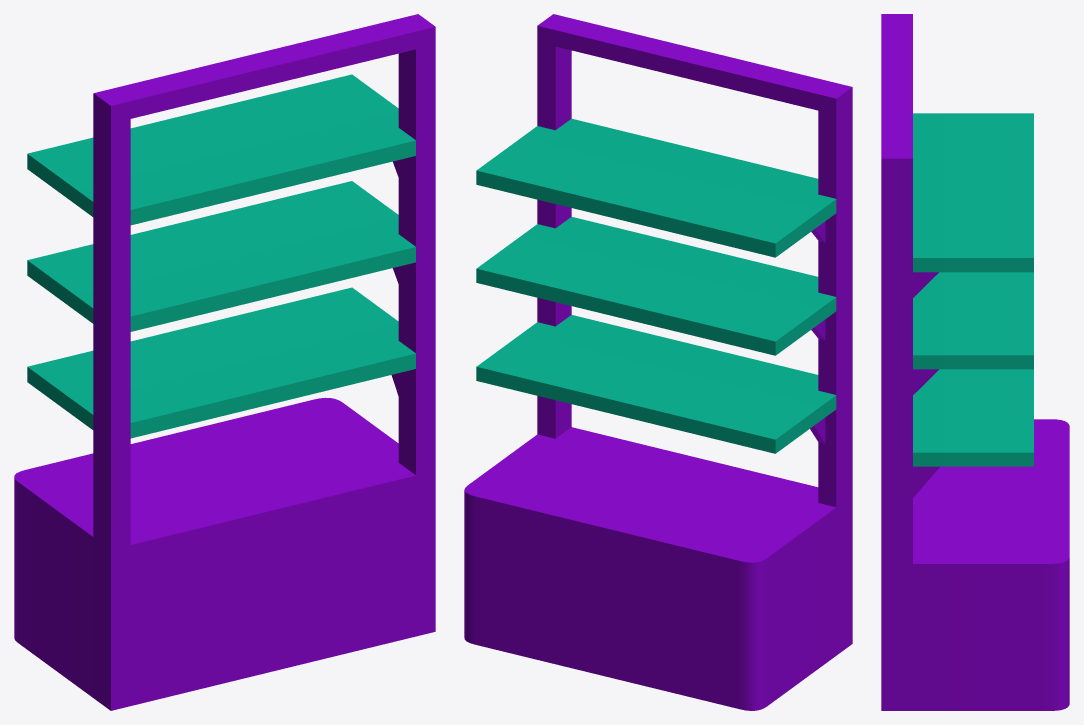
The model's file is tight_table4.fbx.
3 views of the same model, side by side, from view 1: azimuth 30°, elevation 25°; view 2: azimuth 150°, elevation 25°; view 3: azimuth 270°, elevation 25° (orthographic). The views are drawn at different scales.
Visible parts, largest first — view 1: Box008; view 2: Box008; view 3: Box008.
Part boxes in pixels (bbox=[...]): Box008: bbox=[14, 14, 435, 710]; Box008: bbox=[464, 14, 852, 710]; Box008: bbox=[881, 14, 1069, 710].
Size of the model in its own units: 16.3 by 29.02 by 8.98.
